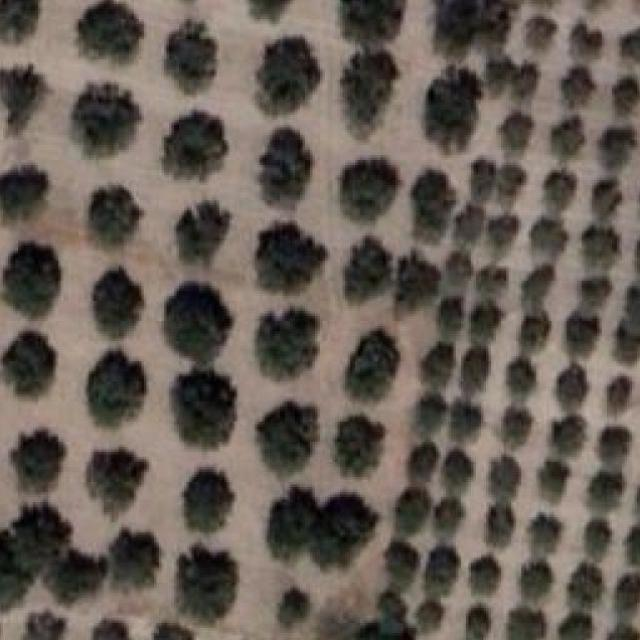Tree: (335, 42, 403, 140), (317, 492, 385, 571), (164, 278, 226, 362), (257, 218, 325, 294), (259, 396, 322, 478), (71, 85, 141, 158), (257, 37, 320, 115), (175, 372, 237, 450), (347, 321, 408, 398), (423, 69, 478, 154), (177, 547, 237, 622), (85, 354, 144, 429), (161, 113, 226, 181), (434, 0, 514, 55), (266, 482, 317, 564), (258, 128, 312, 205), (258, 310, 317, 380), (78, 0, 144, 62), (163, 19, 216, 95), (11, 502, 65, 575), (5, 242, 60, 313), (84, 450, 144, 515), (0, 333, 57, 401), (174, 200, 230, 267), (89, 266, 141, 338), (84, 183, 139, 250), (107, 527, 164, 591), (341, 158, 398, 221), (334, 412, 391, 473), (340, 235, 391, 302), (410, 170, 456, 244), (392, 251, 441, 320), (47, 547, 99, 606), (6, 430, 55, 490), (185, 469, 235, 527), (341, 0, 406, 44), (0, 0, 44, 56), (0, 166, 42, 224), (0, 67, 38, 131), (510, 264, 554, 315), (0, 535, 30, 605), (478, 500, 516, 551), (568, 565, 606, 610), (422, 552, 458, 599), (497, 110, 536, 153), (582, 472, 622, 512), (459, 344, 491, 394), (546, 411, 582, 455), (518, 17, 556, 58), (584, 223, 619, 267), (596, 125, 634, 165), (435, 250, 471, 292), (373, 595, 406, 640), (276, 586, 312, 627), (506, 606, 549, 640), (448, 397, 481, 440), (486, 218, 523, 256), (560, 67, 594, 108), (564, 314, 598, 355), (558, 364, 590, 407), (528, 220, 566, 256), (516, 316, 552, 354), (538, 465, 572, 505), (488, 460, 518, 504), (496, 165, 526, 209), (388, 542, 421, 582), (542, 168, 576, 206), (502, 409, 533, 450), (438, 291, 466, 336), (504, 357, 533, 400), (518, 555, 548, 596), (522, 516, 558, 550), (509, 59, 538, 101), (392, 494, 430, 526), (599, 427, 634, 461), (601, 376, 635, 411), (594, 178, 624, 217), (570, 21, 604, 55), (552, 118, 584, 154), (432, 500, 463, 537), (416, 603, 446, 640), (587, 517, 614, 558), (23, 613, 64, 640), (468, 562, 498, 598), (468, 304, 498, 340), (444, 450, 471, 490), (614, 72, 640, 113), (572, 276, 606, 306), (476, 266, 506, 300), (456, 208, 483, 242), (417, 393, 442, 428), (564, 613, 596, 640), (469, 163, 491, 202), (426, 343, 450, 376), (619, 24, 640, 60), (461, 611, 486, 640), (96, 620, 132, 640), (626, 289, 640, 338), (413, 444, 433, 477), (149, 625, 189, 640)
